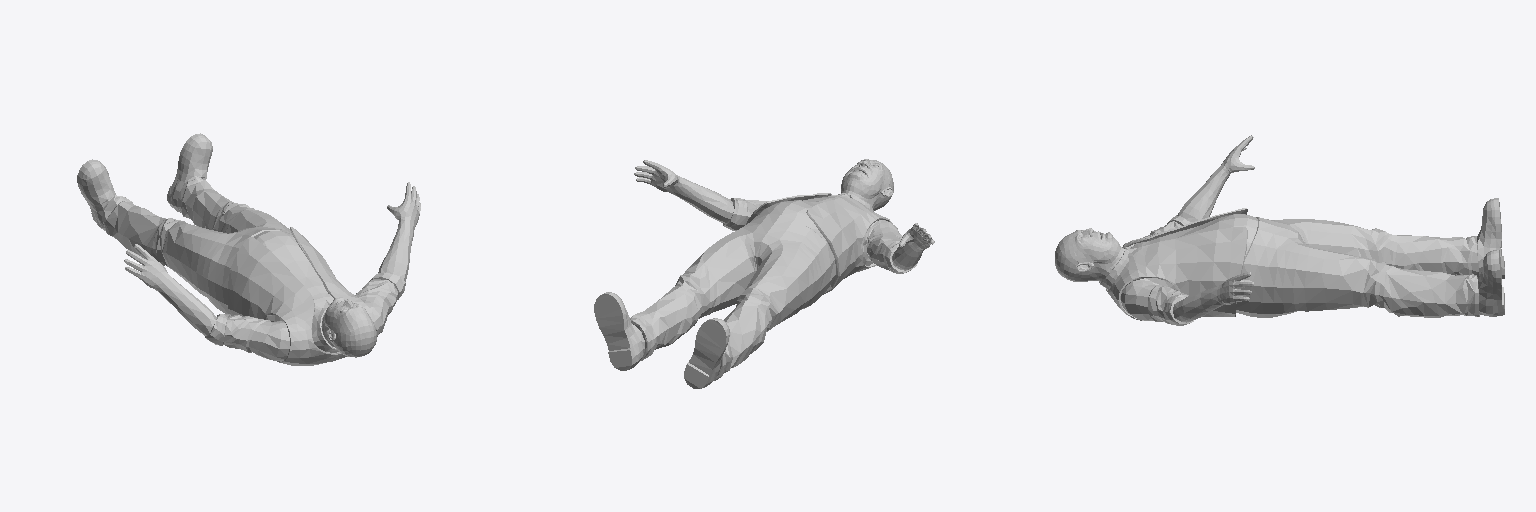
File: sid.obj
3 renders of one model, left to right at view 1: azimuth 30°, elevation 25°; view 2: azimuth 150°, elevation 25°; view 3: azimuth 270°, elevation 25°, orthographic.
Visible parts, largest first — view 1: body_stalker_trader_1.ogf_00, head_stalker_trader_1.ogf_00.001; view 2: body_stalker_trader_1.ogf_00, head_stalker_trader_1.ogf_00.001; view 3: body_stalker_trader_1.ogf_00, head_stalker_trader_1.ogf_00.001.
Part boxes in pixels (bbox=[...]): body_stalker_trader_1.ogf_00: bbox=[77, 133, 420, 365]; head_stalker_trader_1.ogf_00.001: bbox=[322, 297, 376, 357]; body_stalker_trader_1.ogf_00: bbox=[594, 160, 934, 388]; head_stalker_trader_1.ogf_00.001: bbox=[841, 159, 893, 210]; body_stalker_trader_1.ogf_00: bbox=[1099, 135, 1504, 325]; head_stalker_trader_1.ogf_00.001: bbox=[1055, 228, 1124, 282].
Bounding box in the file's own units: 1.32 × 0.4673 × 1.73.